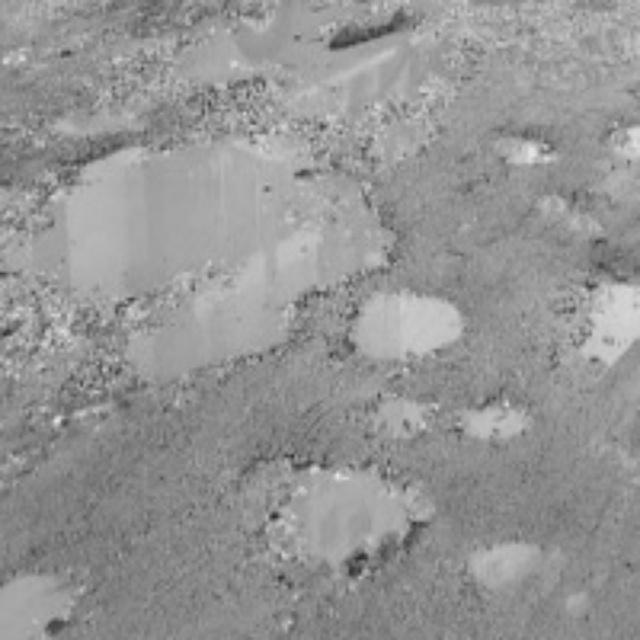Pothole: (86, 139, 292, 380), (278, 448, 415, 570), (348, 287, 453, 375), (580, 268, 640, 372), (471, 382, 519, 458), (494, 128, 558, 169)
Surface Erosion: (0, 0, 640, 640)
